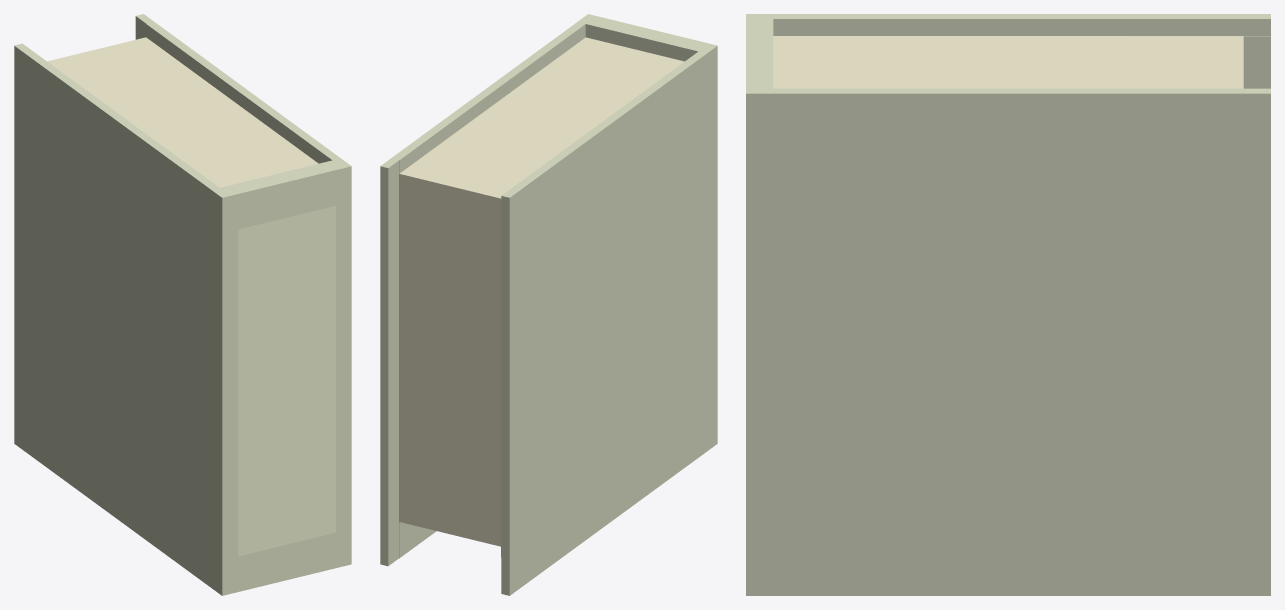
Rendered from book_3.fbx.
3 views of the same model, side by side, from view 1: azimuth 30°, elevation 25°; view 2: azimuth 150°, elevation 25°; view 3: azimuth 270°, elevation 25° (orthographic). The views are drawn at different scales.
Parts seen in each view (by area): view 1: Boole_1; view 2: Boole_1; view 3: Boole_1.
Part boxes in pixels (x1=…): Boole_1: x1=14, y1=14, x2=351, y2=595; Boole_1: x1=380, y1=14, x2=717, y2=595; Boole_1: x1=746, y1=14, x2=1270, y2=595.
Size of the model in its own units: 3.16 by 9.27 by 8.78.
